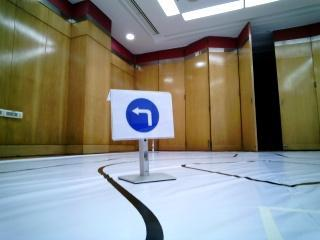left: (125, 96, 165, 137)
